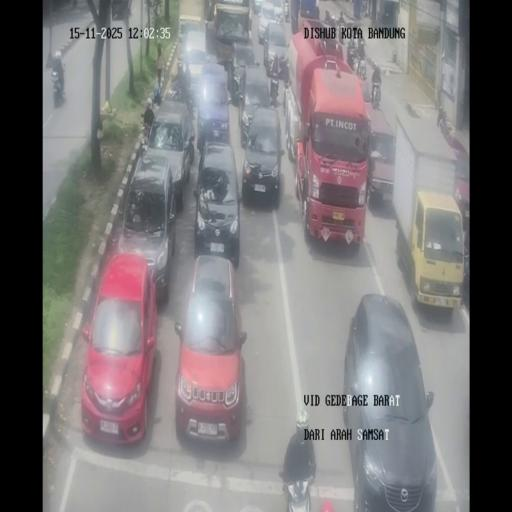car: (344, 298, 436, 508), (80, 251, 158, 442), (173, 255, 247, 442), (192, 140, 241, 262), (144, 100, 195, 204), (195, 64, 232, 151), (238, 64, 271, 142), (179, 30, 208, 97), (262, 21, 289, 75), (359, 75, 373, 105), (269, 0, 285, 21), (253, 0, 262, 14)
motorcycle: (282, 447, 316, 511), (462, 226, 470, 304), (340, 20, 356, 46), (53, 74, 65, 106), (140, 117, 153, 144), (347, 44, 358, 70), (437, 114, 450, 136), (357, 54, 367, 79), (269, 86, 279, 108), (372, 83, 380, 109), (282, 85, 287, 115), (356, 36, 364, 52), (324, 10, 333, 24), (284, 2, 290, 22), (337, 11, 344, 28)
truck: (284, 21, 370, 253), (392, 111, 464, 310), (364, 99, 396, 207), (212, 1, 250, 61), (289, 0, 319, 36)
